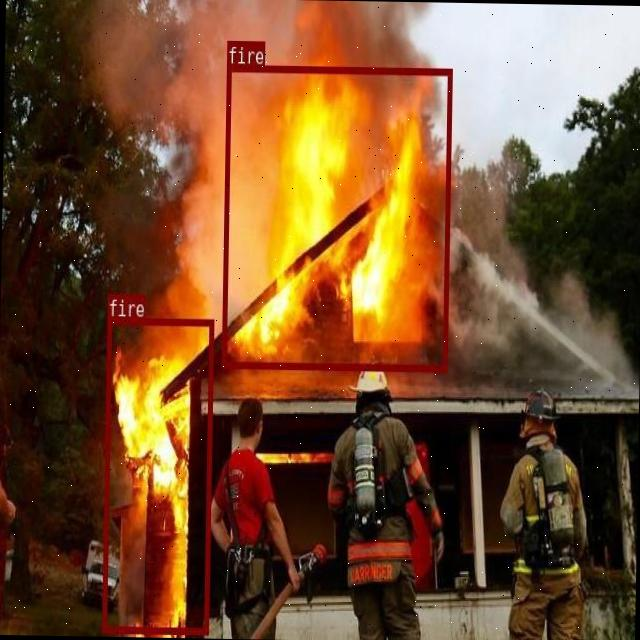fire: (222, 64, 450, 370), (102, 316, 213, 634)
